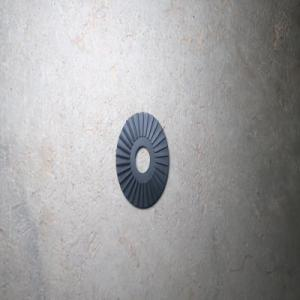Washer: (116, 112, 169, 209)
